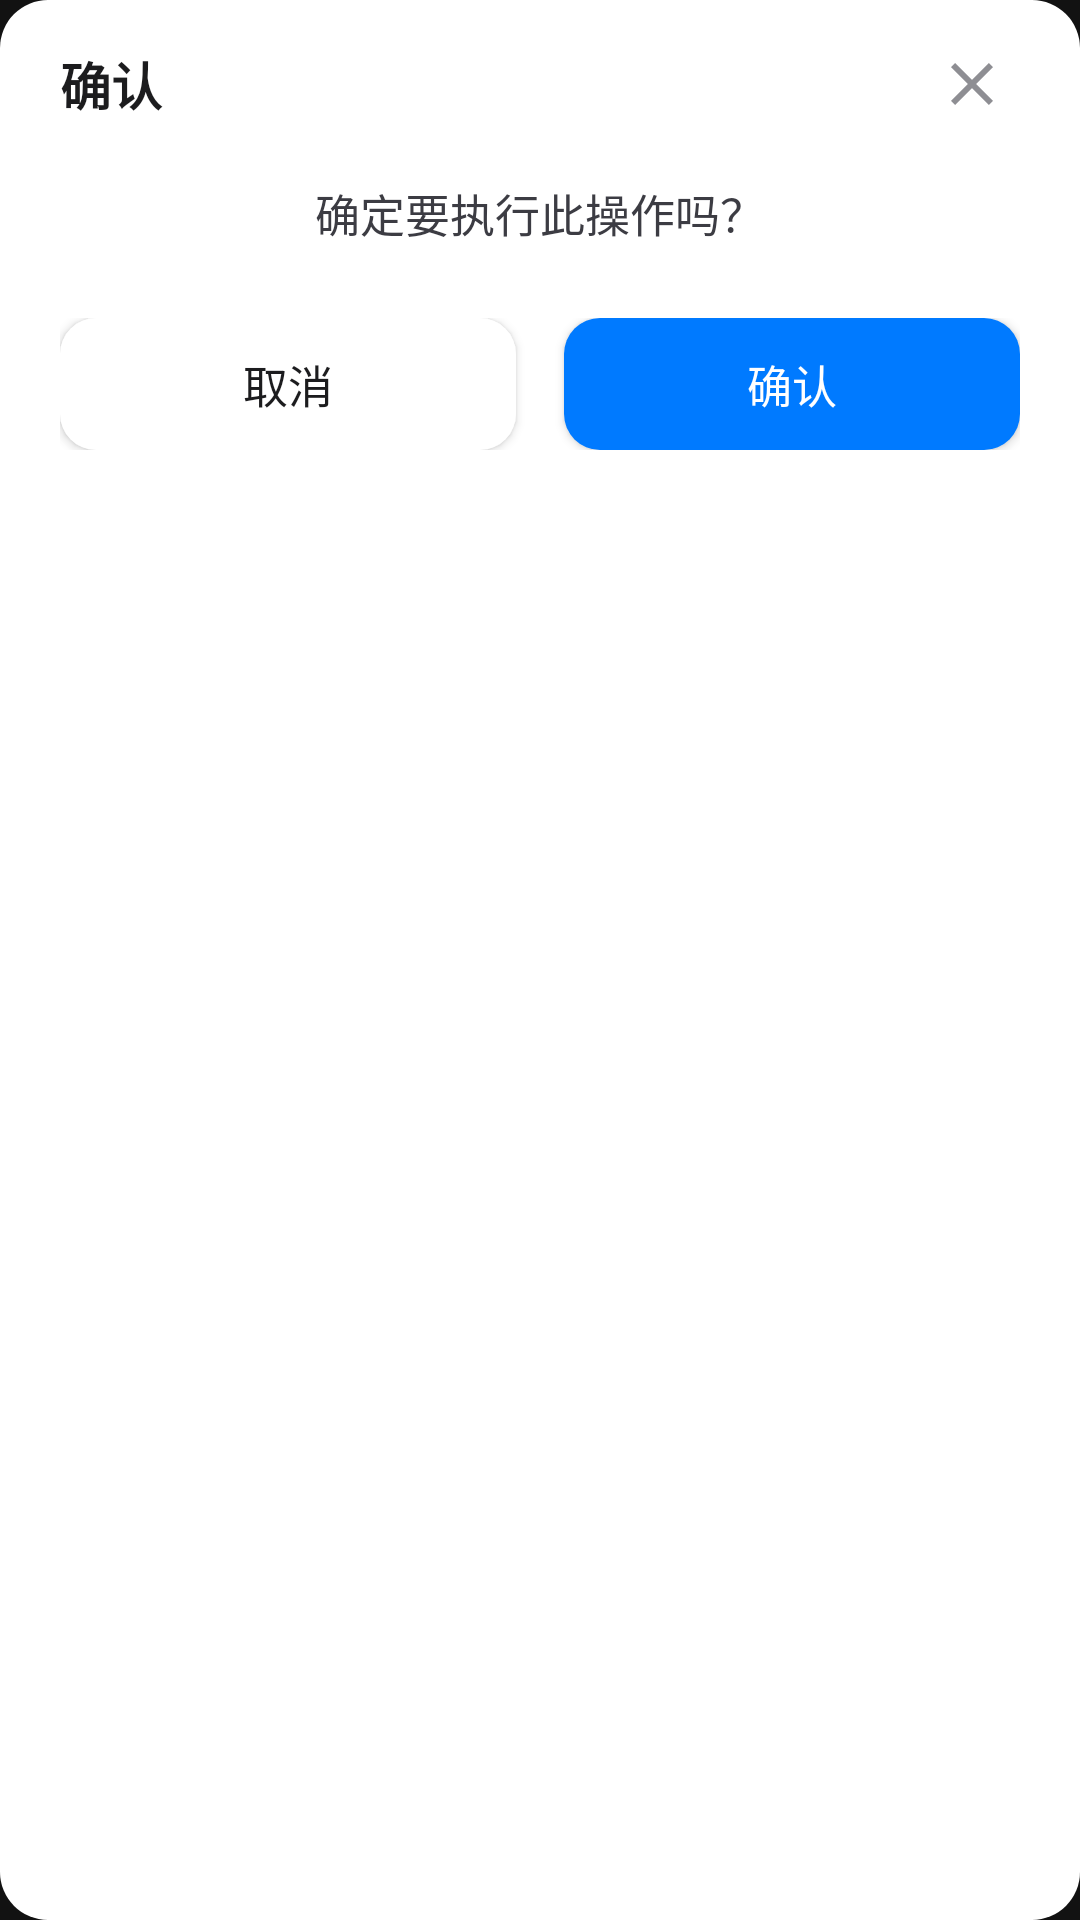

Icons on this 1080w x 1920h Android screen, each with its box as bbox(x1, y1, x2, y2):
关闭: bbox(951, 63, 993, 105)
